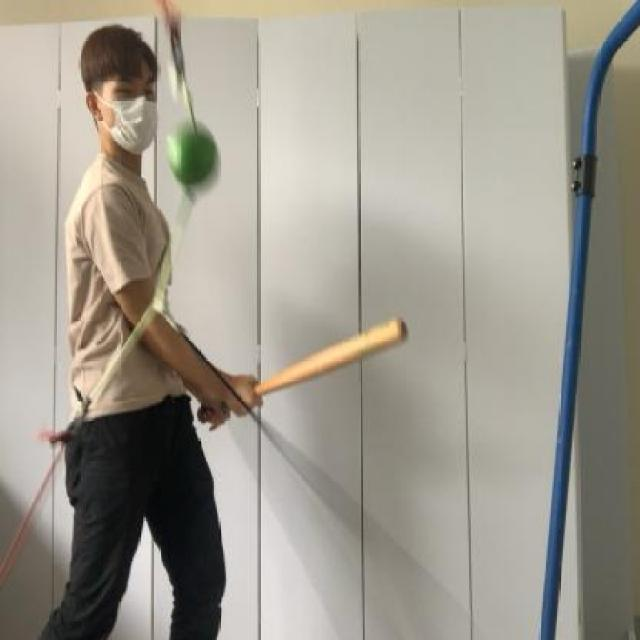baseball: (160, 113, 228, 207)
